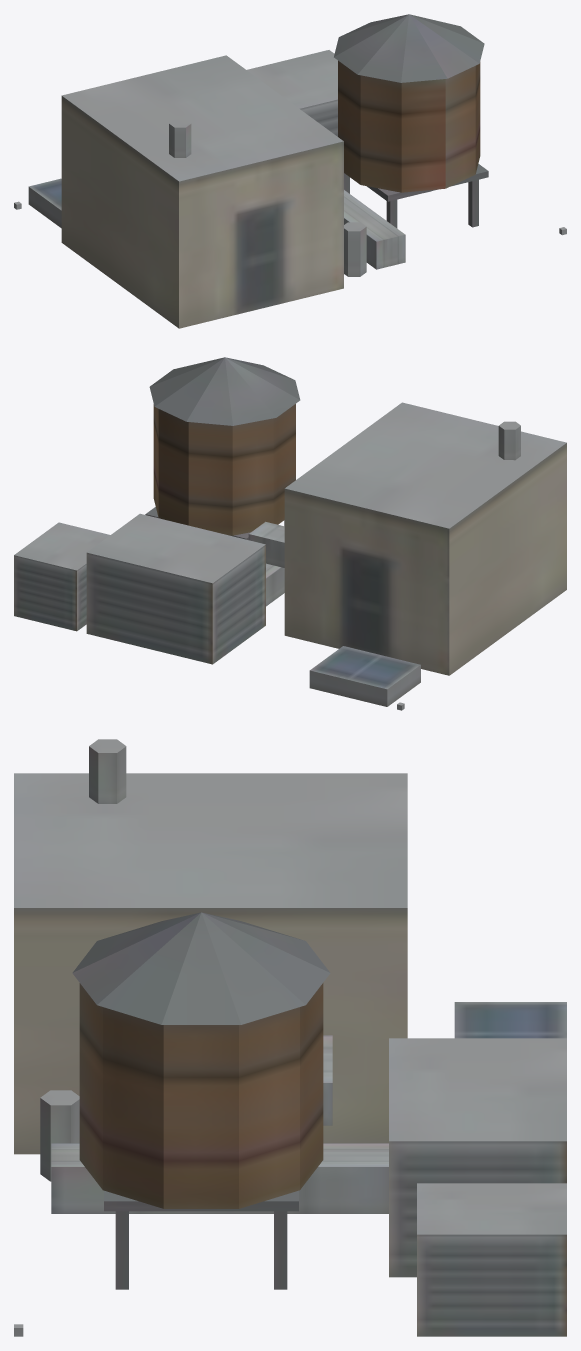
File: sf_rooftop_mech.glb
The picture shows the model from 3 angles, top to bottom: view 1: azimuth 30°, elevation 25°; view 2: azimuth 150°, elevation 25°; view 3: azimuth 270°, elevation 25°; orthographic projection. The views are drawn at different scales.
Parts seen in each view (by area): view 1: sf_rooftop_mech; view 2: sf_rooftop_mech; view 3: sf_rooftop_mech.
Boxes of the visible parts, x1,y1,x2,y2 form: sf_rooftop_mech: [14, 14, 566, 328]; sf_rooftop_mech: [14, 357, 566, 710]; sf_rooftop_mech: [14, 739, 566, 1336].
Bounding box in the file's own units: 8 × 4.02 × 5.9.
1 material, 1 textured.
